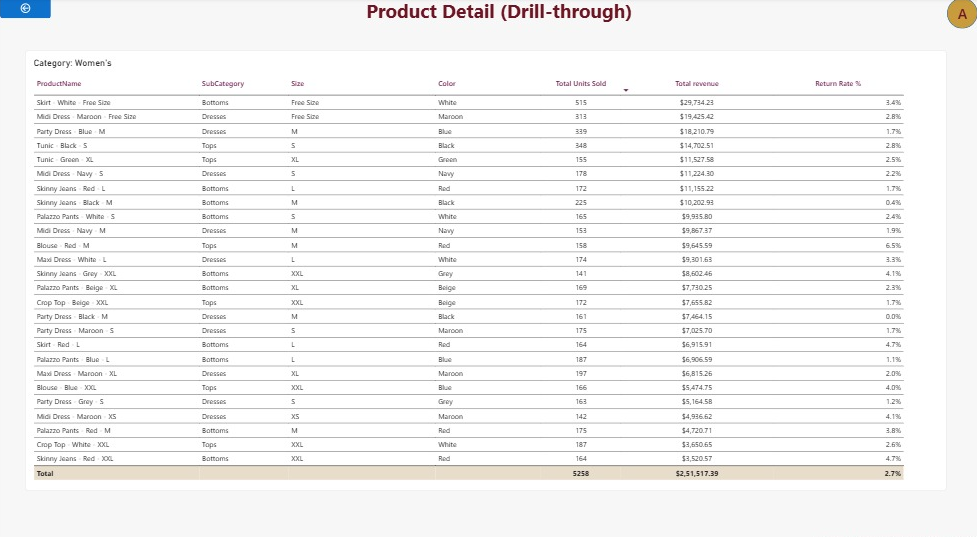

What the dashboard file says about the page in this screenshot:
{"tool":"powerbi","page":{"name":"Product Detail (Drill-through)","canvas":[1920,1080],"ordinal":3},"visuals":[{"type":"actionButton","box":[0,0,100,40],"z":3000},{"type":"tableEx","fields":{"Values":["Dim_Product.ProductName","Dim_Product.SubCategory","Dim_Product.Size","Dim_Product.Color","_Measures.Total Units Sold","_Measures.Total revenue","_Measures.Return Rate %"]},"box":[49.7,101.5,1810.1,866.2],"z":4000},{"type":"shape","box":[1859.8,0,60,60],"z":5000},{"type":"textbox","title":"Designed & developed by Mirza Afzal Baig | Afzalytics","box":[1413.4,1062.3,506.6,17.7],"z":6000},{"type":"textbox","box":[99.4,0,1760.4,60.5],"z":7000}]}

Visuals, with their boxes in screenshot pixels (x1, y1, x2, y2), scaled from the page's 1920x1080 canvas onto the 977x537 screenshot:
actionButton: box(0, 0, 51, 20)
tableEx - Dim_Product.ProductName x Dim_Product.SubCategory: box(25, 50, 946, 481)
shape: box(946, 0, 976, 30)
"Designed & developed by Mirza Afzal Baig | Afzalytics" textbox: box(719, 528, 976, 536)
textbox: box(51, 0, 946, 30)
